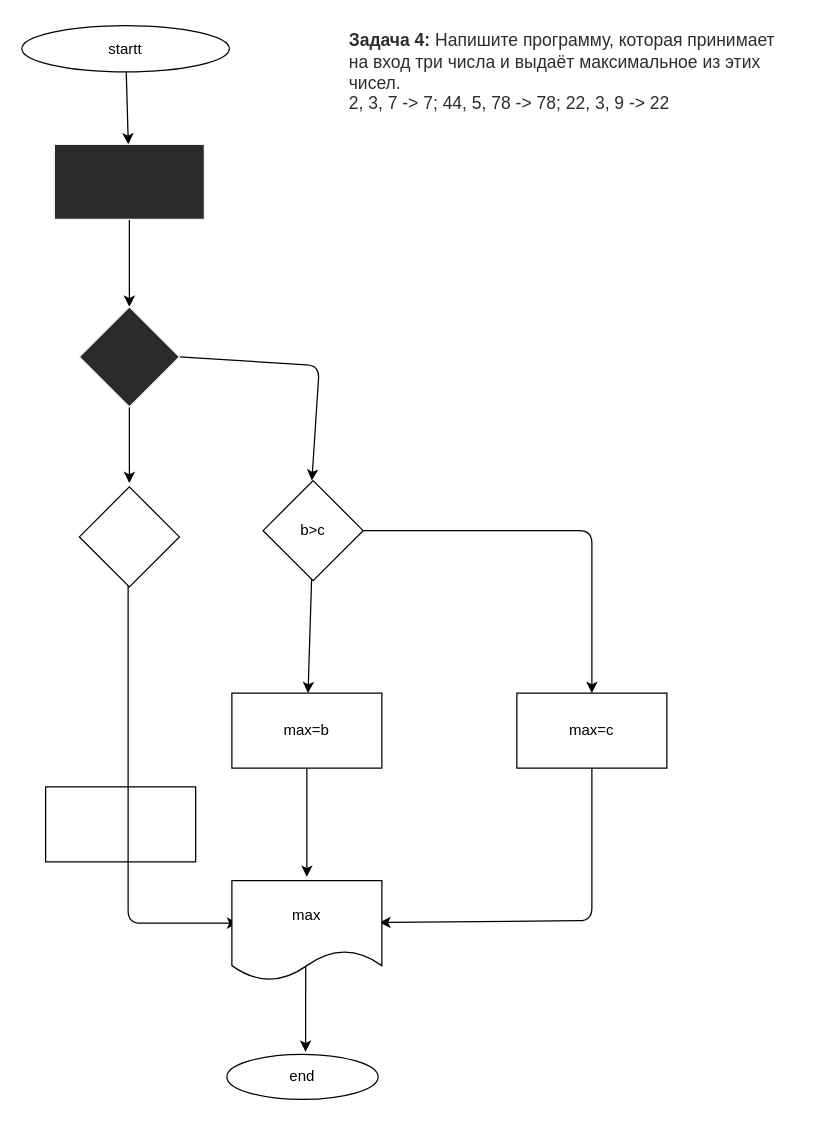
Some shapes in this 819 by 1121 pixel diagram are drawn without their labels. Each missing label, with the box of its shape:
a=2 b=3 c=7 max=0: (53, 143, 204, 219)
a>b: (78, 306, 179, 407)
max=a: (44, 786, 196, 862)
